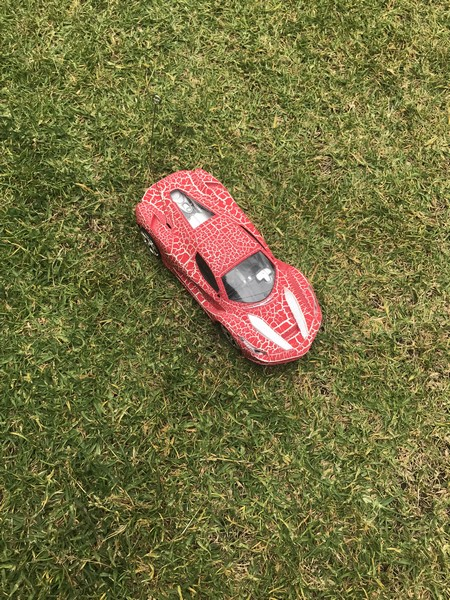RC: (132, 166, 325, 369)
